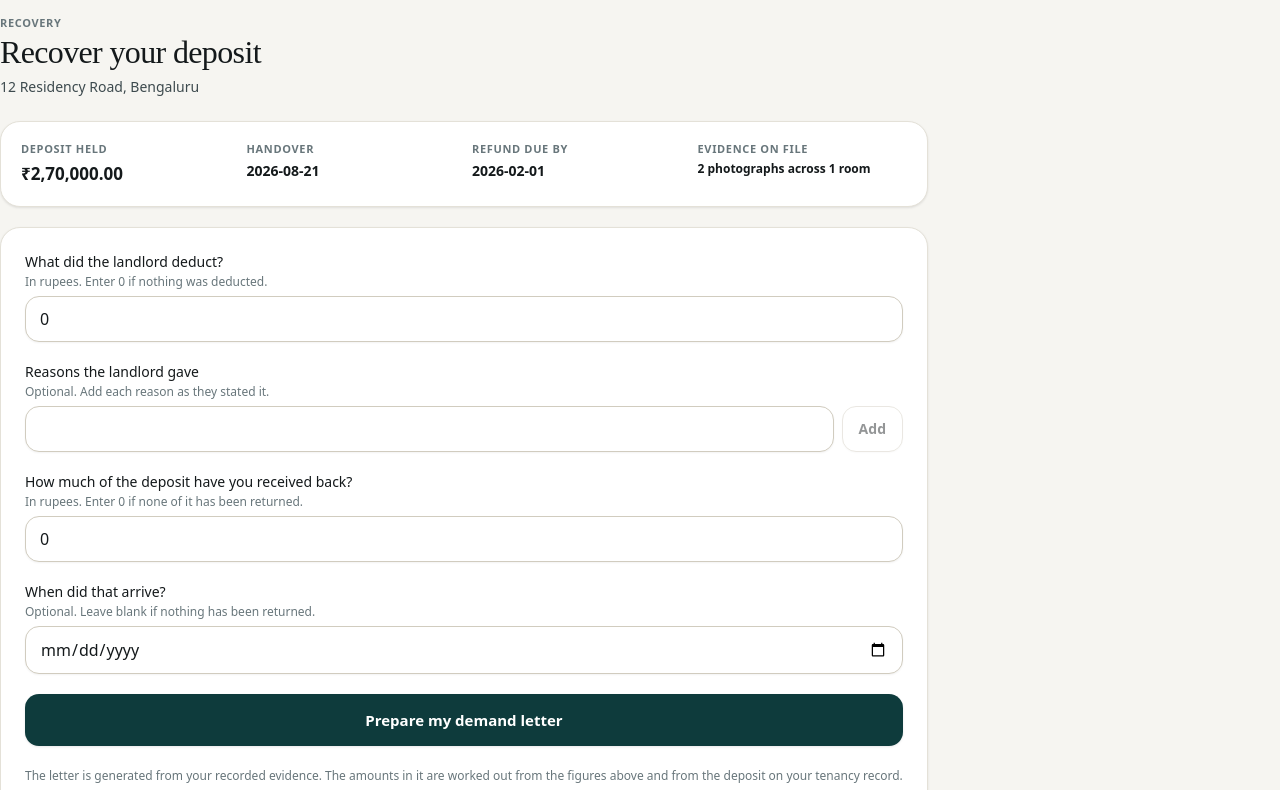
Test case: Recovery — money is integer paise › rejects an amount with more than two decimal places
Replace the text in the field with id "claim-deductions" with "10.123" at (464, 319), box [25,296,903,342]
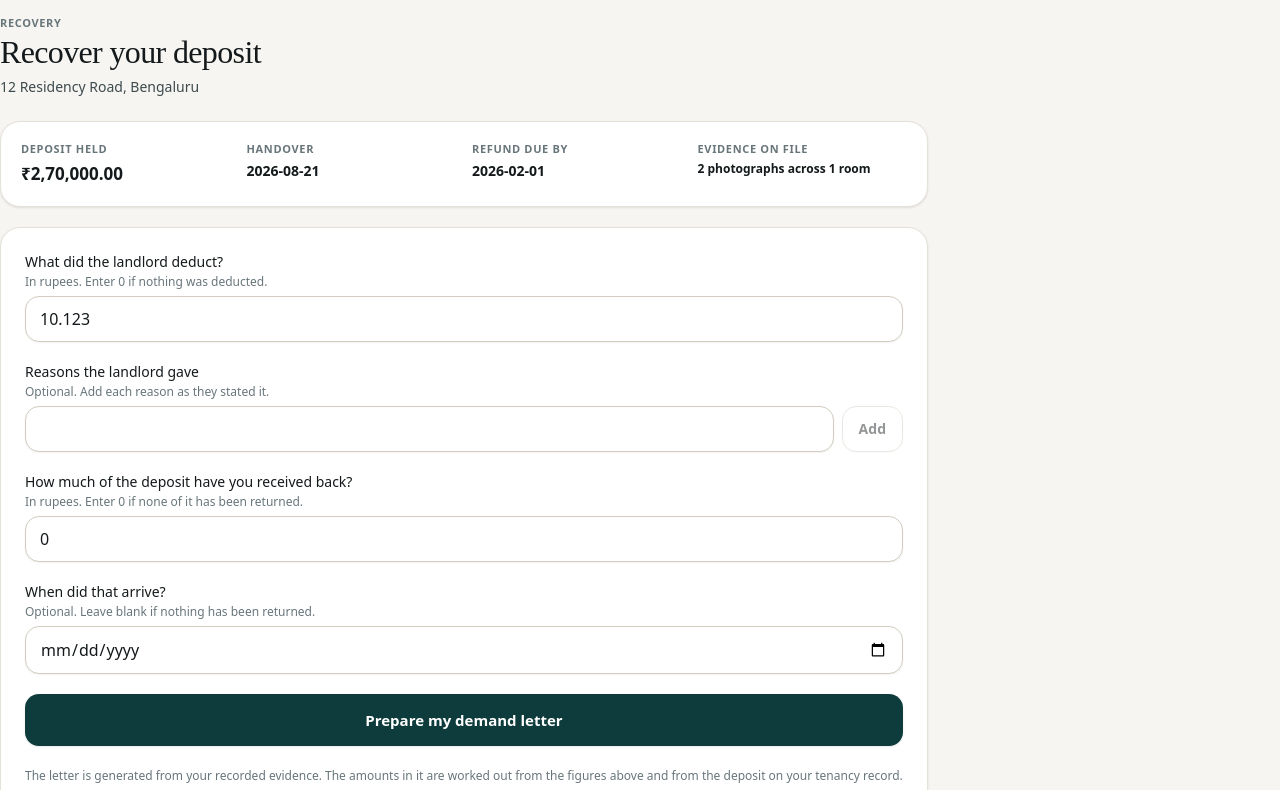
Click the button with test id "submit-claim" at (464, 720), box [25,694,903,746]
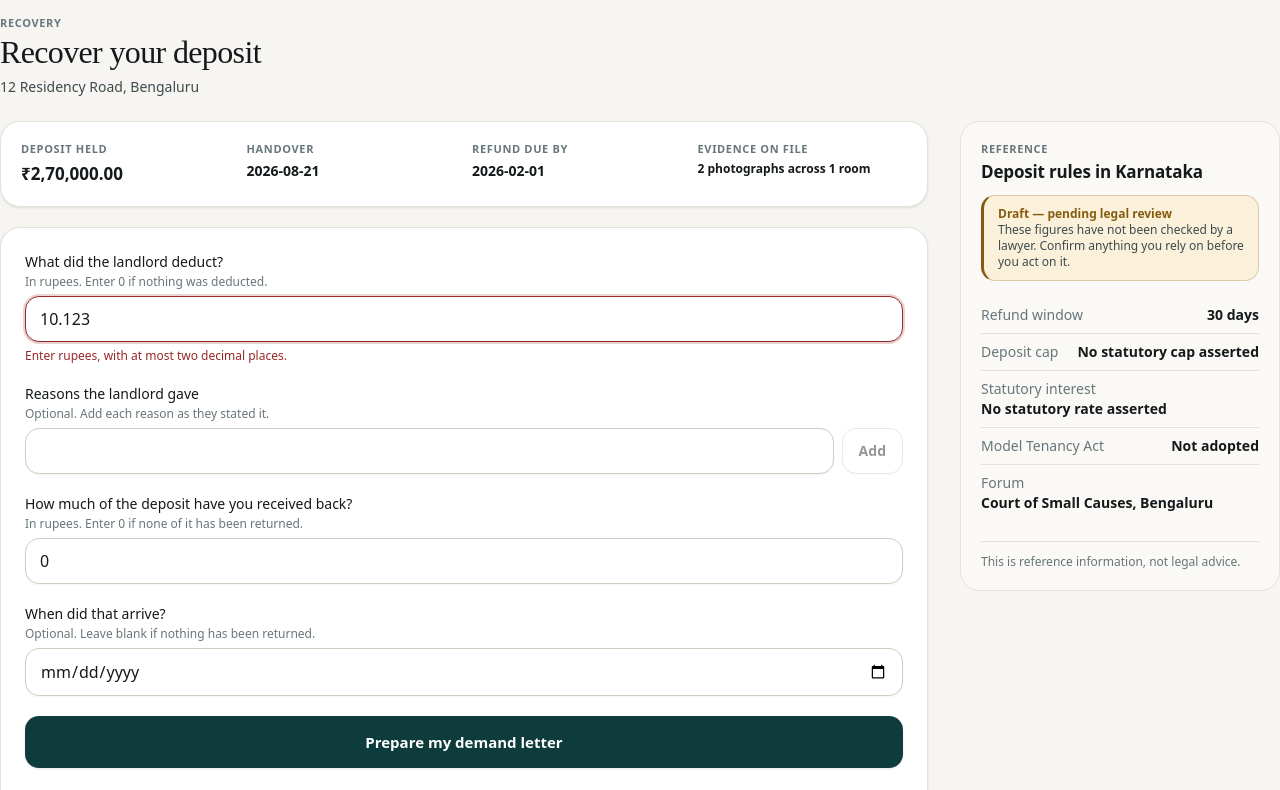
Now the text "Enter rupees, with at most two decimal places." is shown, box [25,347,287,364]
